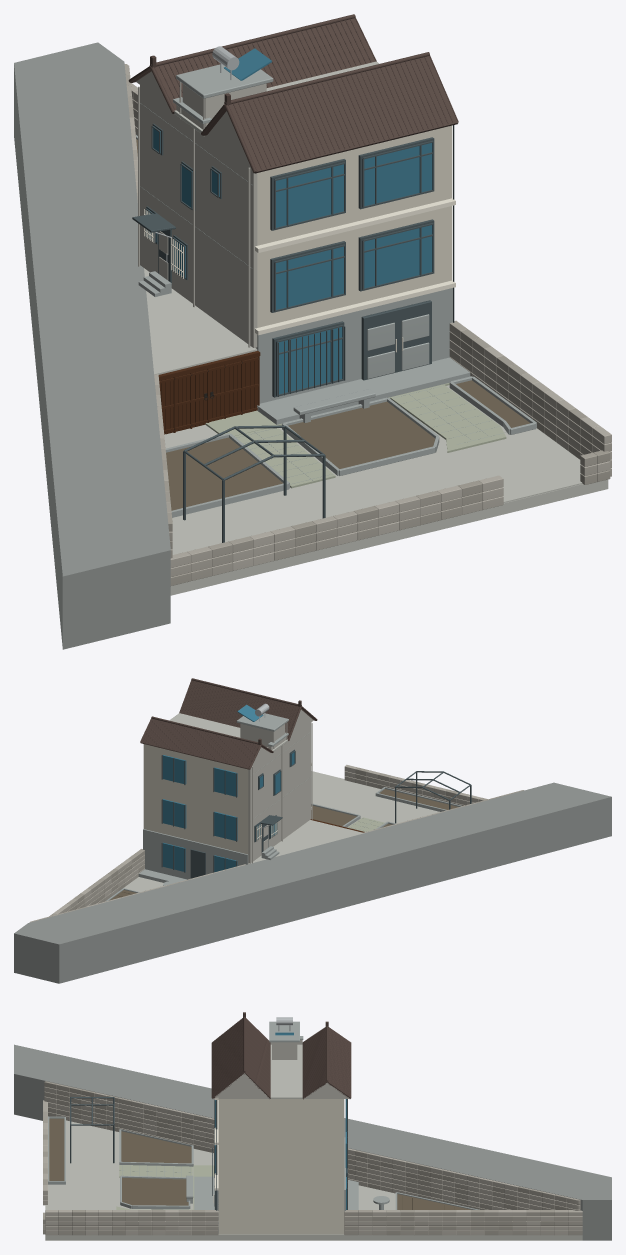
Rendered from home.glb.
3 views of the same model, one above another, from view 1: azimuth 30°, elevation 25°; view 2: azimuth 150°, elevation 25°; view 3: azimuth 270°, elevation 25° (orthographic). The views are drawn at different scales.
Visible parts, largest first — view 1: Road concrete, Clean concrete, V6 muted dark clay tiles, Roadside fine grey plaster, Grey marble ground floor, Blue reflective glazing, Dark aluminium, Warm ivory facade, Planting soil, Sage paving, V7 aged deep brown timber, Granite 1 (+5 smaller); view 2: Road concrete, Warm ivory facade, V6 muted dark clay tiles, Roadside fine grey plaster, Clean concrete, Grey marble ground floor, Blue reflective glazing, Dark aluminium, Planting soil, Granite 1, Granite 3, Granite 4 (+2 smaller); view 3: Warm ivory facade, Road concrete, Clean concrete, V6 muted dark clay tiles, Granite 1, Granite 3, Granite 0, Granite 4, Planting soil, Granite 2, Grey marble ground floor, Roadside fine grey plaster (+2 smaller).
Boxes of the visible parts, x1,y1,x2,y2 form: Road concrete: [14, 42, 170, 649]; Clean concrete: [144, 61, 608, 595]; V6 muted dark clay tiles: [128, 14, 458, 173]; Roadside fine grey plaster: [136, 71, 266, 347]; Grey marble ground floor: [136, 64, 536, 517]; Blue reflective glazing: [146, 48, 432, 394]; Dark aluminium: [132, 123, 454, 542]; Warm ivory facade: [255, 125, 452, 348]; Planting soil: [136, 139, 530, 510]; Sage paving: [205, 383, 506, 488]; V7 aged deep brown timber: [158, 351, 260, 434]; Granite 1: [125, 74, 597, 580]; Road concrete: [14, 782, 611, 983]; Warm ivory facade: [143, 744, 248, 863]; V6 muted dark clay tiles: [140, 678, 317, 769]; Roadside fine grey plaster: [240, 709, 313, 863]; Clean concrete: [123, 713, 439, 891]; Grey marble ground floor: [105, 713, 461, 901]; Blue reflective glazing: [163, 704, 294, 872]; Dark aluminium: [161, 749, 471, 878]; Planting soil: [110, 789, 458, 900]; Granite 1: [41, 773, 512, 919]; Granite 3: [84, 776, 477, 906]; Granite 4: [53, 765, 480, 914]; Warm ivory facade: [218, 1099, 344, 1234]; Road concrete: [14, 1044, 611, 1240]; Clean concrete: [45, 1044, 582, 1240]; V6 muted dark clay tiles: [211, 1012, 351, 1099]; Granite 1: [43, 1084, 582, 1235]; Granite 3: [43, 1087, 582, 1235]; Granite 0: [43, 1081, 566, 1235]; Granite 4: [43, 1098, 582, 1235]; Planting soil: [49, 1118, 471, 1209]; Granite 2: [45, 1092, 582, 1235]; Grey marble ground floor: [48, 1021, 479, 1233]; Roadside fine grey plaster: [212, 1040, 349, 1098].
Size of the model in its own units: 23.54 by 12.46 by 38.
